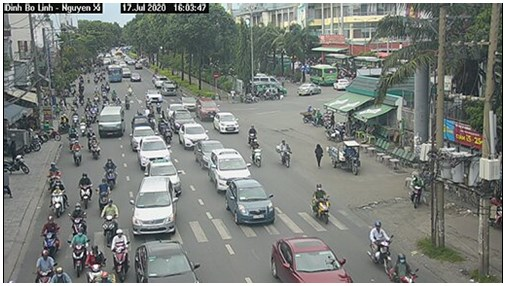di_bo: (311, 141, 326, 170)
xe_ba_gac: (326, 138, 363, 177)
xe_buyt: (107, 64, 124, 83)
xe_hoi: (264, 233, 357, 283), (131, 176, 181, 235), (225, 178, 274, 226), (206, 148, 251, 193), (142, 158, 182, 194), (134, 136, 172, 172), (178, 122, 209, 149), (212, 111, 242, 137), (193, 97, 223, 123)
xe_khach: (97, 104, 123, 140)
xe_may: (365, 215, 393, 273), (108, 228, 132, 280), (308, 179, 333, 226), (67, 227, 88, 278), (391, 248, 420, 282), (85, 242, 107, 282), (99, 200, 121, 240), (34, 247, 55, 284), (75, 171, 96, 208), (68, 201, 89, 238), (48, 180, 69, 217), (40, 218, 58, 253), (274, 138, 294, 169), (248, 137, 264, 171), (407, 175, 423, 208), (96, 177, 111, 210), (45, 162, 60, 189), (105, 156, 117, 188), (70, 139, 83, 167), (90, 134, 103, 162)
